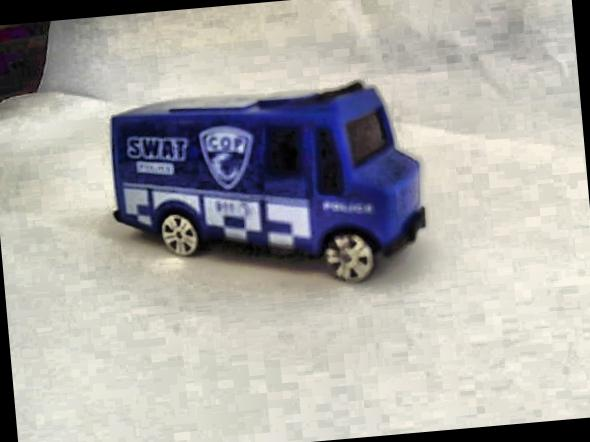police car: (96, 74, 436, 298)
